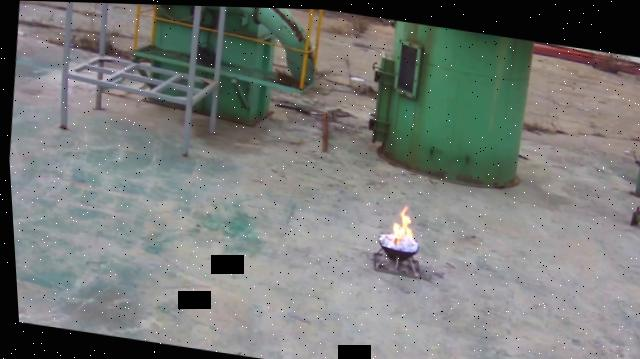fire: (387, 201, 416, 243)
